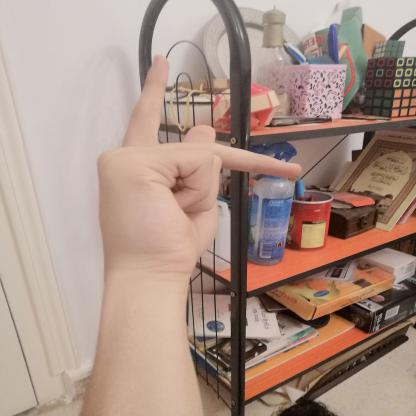DHAA: (76, 41, 318, 288)
